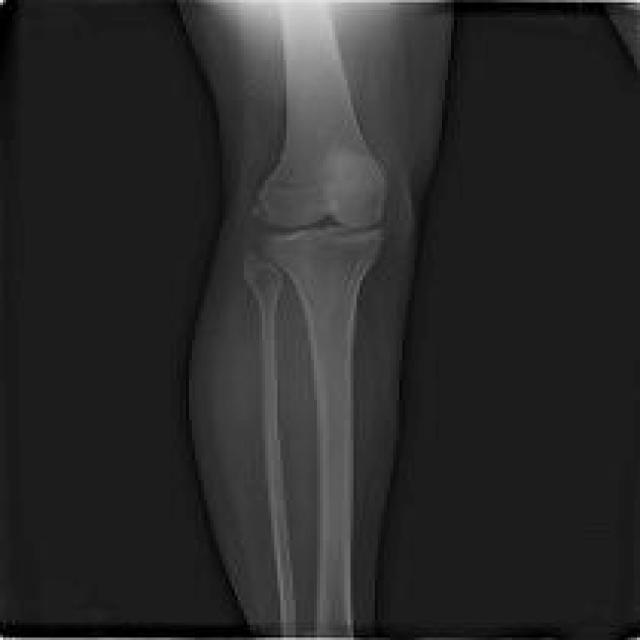normal: (244, 2, 387, 632)
